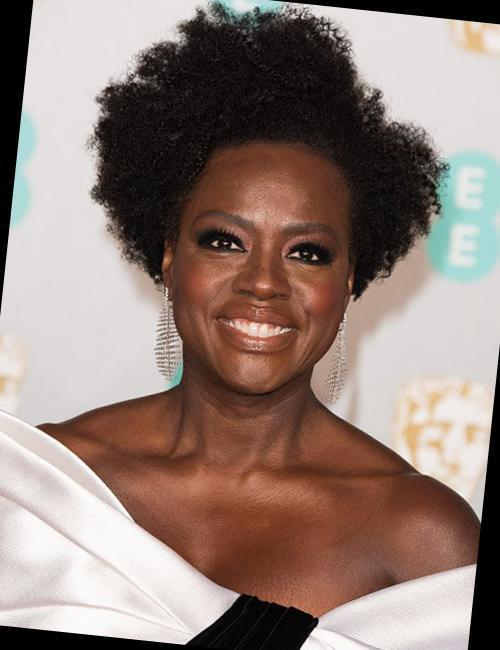Sober: (188, 160, 339, 389)
